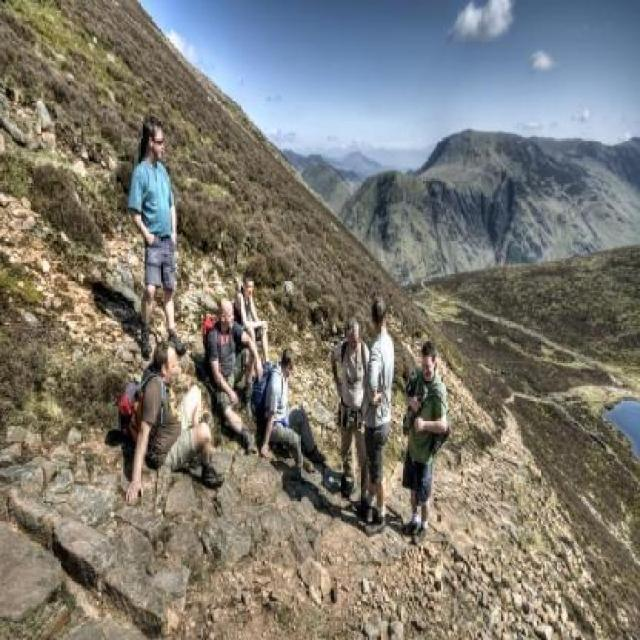backpack: (119, 377, 146, 458), (249, 358, 271, 422), (434, 408, 452, 458), (198, 310, 217, 352), (359, 340, 366, 372), (340, 335, 348, 363)
